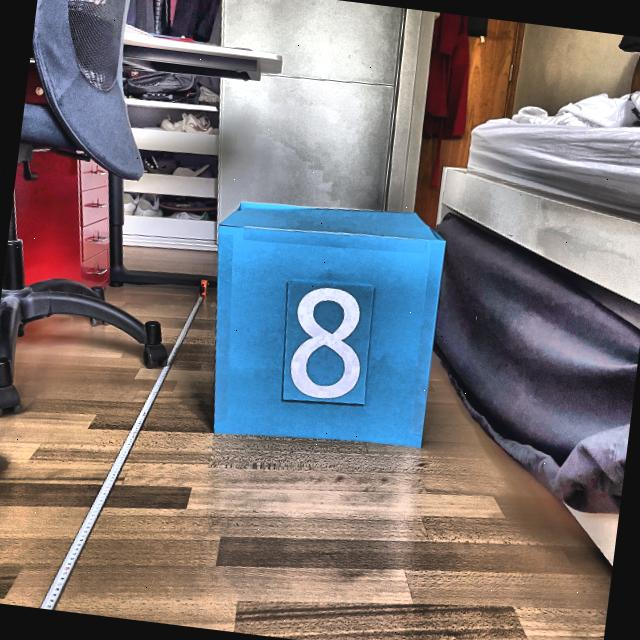blue box: (194, 186, 456, 459)
eight: (282, 279, 376, 408)
